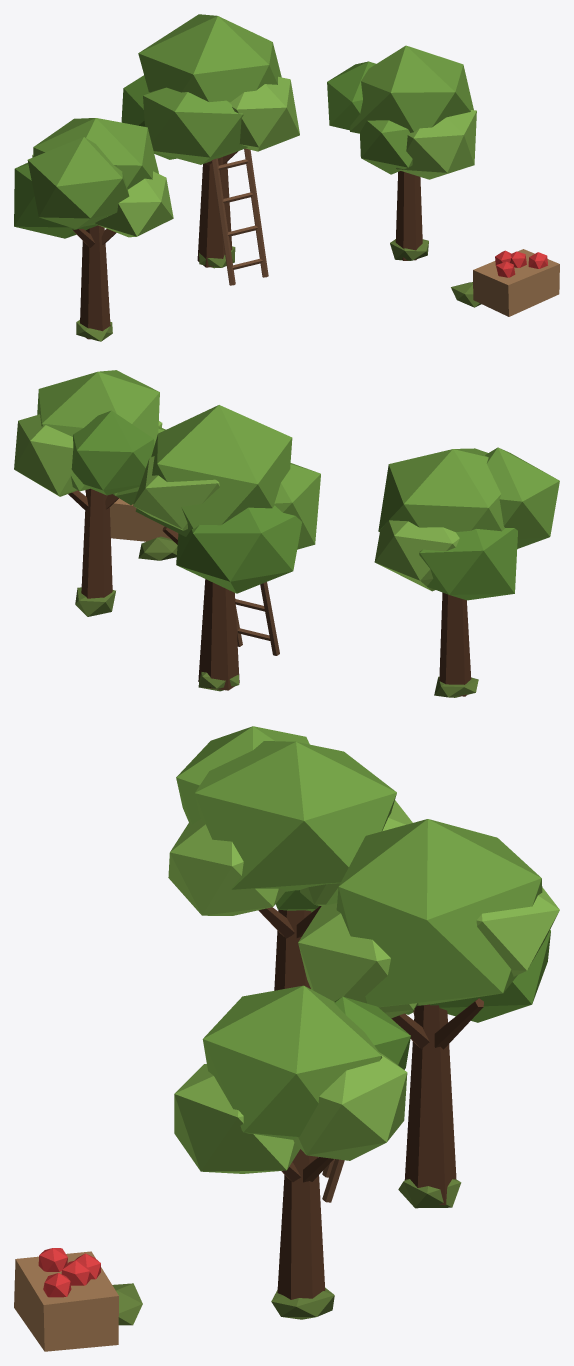
Rendered from theme_orchard.glb.
3 renders of one model, top to bottom at view 1: azimuth 30°, elevation 25°; view 2: azimuth 150°, elevation 25°; view 3: azimuth 270°, elevation 25°, orthographic. The views are drawn at different scales.
Parts seen in each view (by area): view 1: theme_orchard; view 2: theme_orchard; view 3: theme_orchard.
Boxes of the visible parts, x1,y1,x2,y2 form: theme_orchard: [14, 14, 559, 341]; theme_orchard: [14, 370, 559, 697]; theme_orchard: [14, 726, 559, 1351].
Size of the model in its own units: 2.48 by 1.32 by 1.68.
